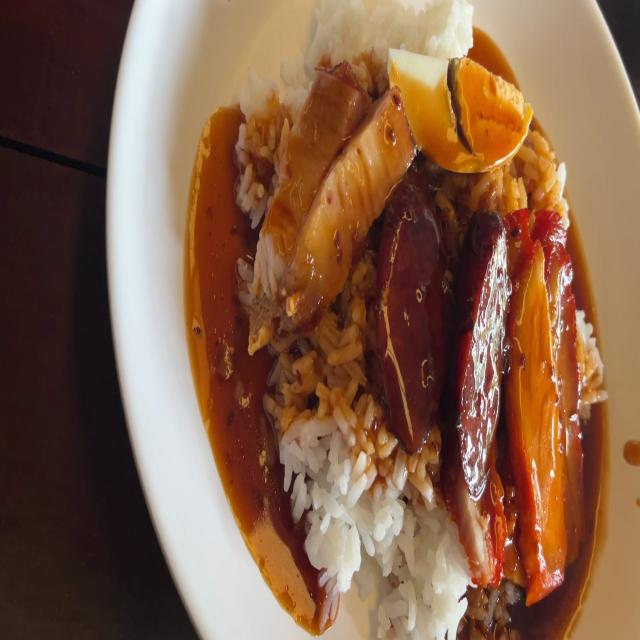01boiled_egg: (384, 42, 535, 166)
01chainese_sausage: (385, 187, 504, 469)
01crispy_pork: (250, 62, 392, 334)
01red_pork: (511, 226, 585, 575)
01red_pork_and_crispy_pork: (231, 0, 605, 640)
01rice: (264, 348, 396, 582), (386, 478, 455, 640)
